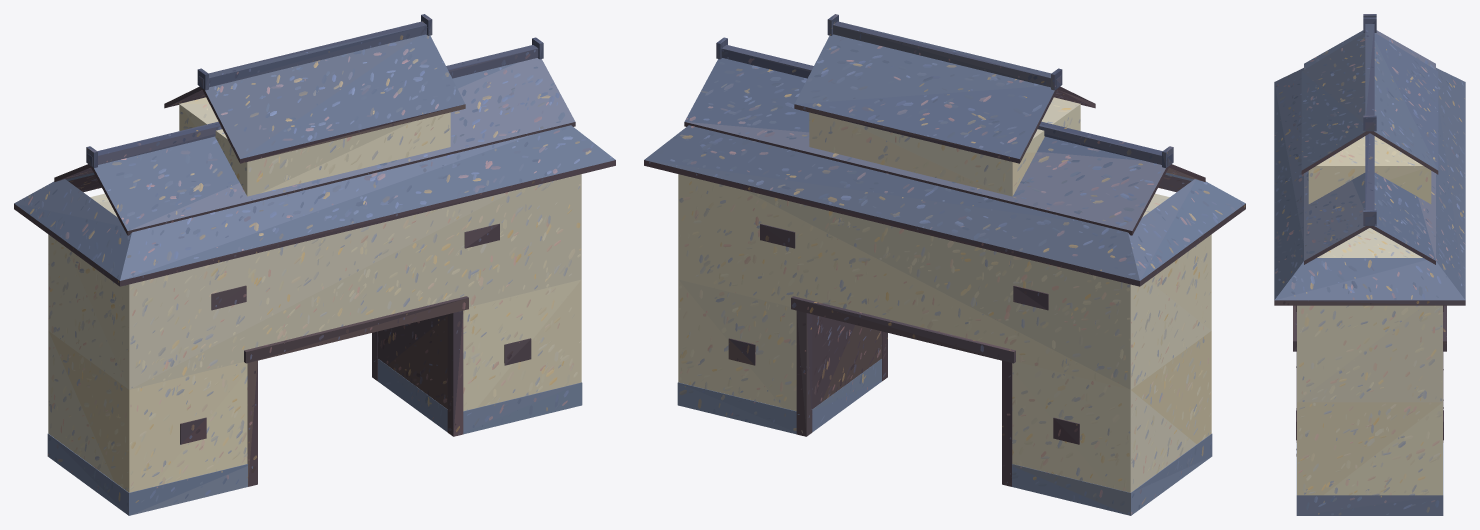
The model's file is HK_GateHouse_Yagura.glb.
The picture shows the model from 3 angles, left to right: view 1: azimuth 30°, elevation 25°; view 2: azimuth 150°, elevation 25°; view 3: azimuth 270°, elevation 25°; orthographic projection. The views are drawn at different scales.
Visible parts, largest first — view 1: HK_GateHouse_Yagura; view 2: HK_GateHouse_Yagura; view 3: HK_GateHouse_Yagura.
Boxes of the visible parts, left/top/right/bottom form: HK_GateHouse_Yagura: left=14, top=14, right=615, bottom=515; HK_GateHouse_Yagura: left=644, top=14, right=1245, bottom=515; HK_GateHouse_Yagura: left=1274, top=14, right=1465, bottom=515.
Bounding box in the file's own units: 22.71 × 16.91 × 8.41.
